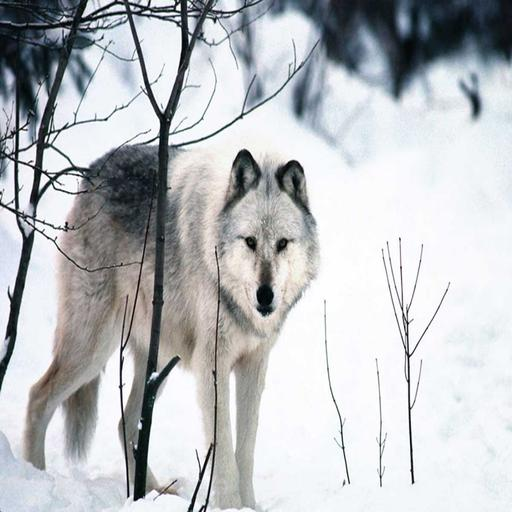Wolf: (18, 138, 326, 508)
